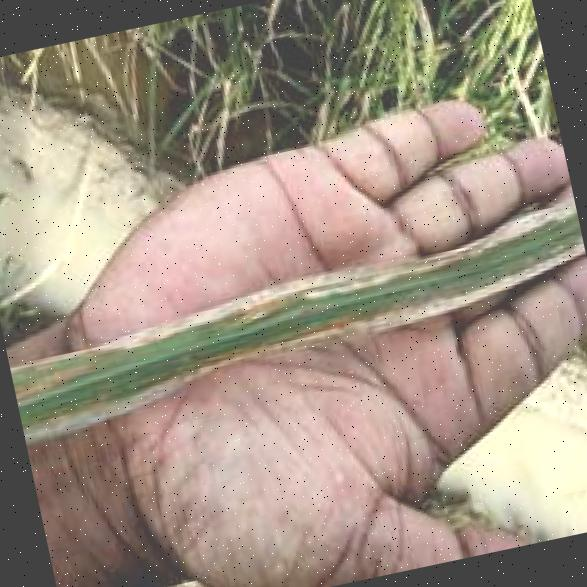Bacteria_Leaf_Blight: (11, 204, 587, 421)
